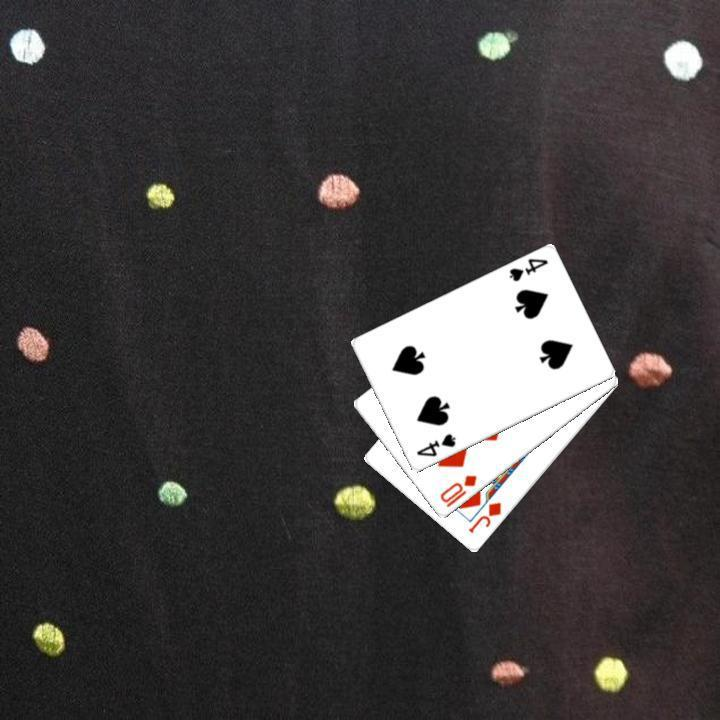10: (436, 471, 479, 510)
4: (505, 254, 550, 284), (412, 430, 457, 459)
J: (464, 498, 504, 536)
